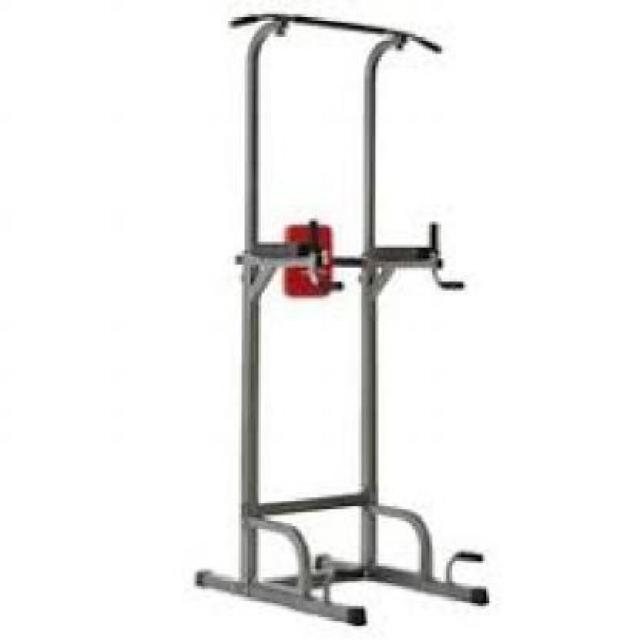chinning dipping: (194, 11, 489, 626)
